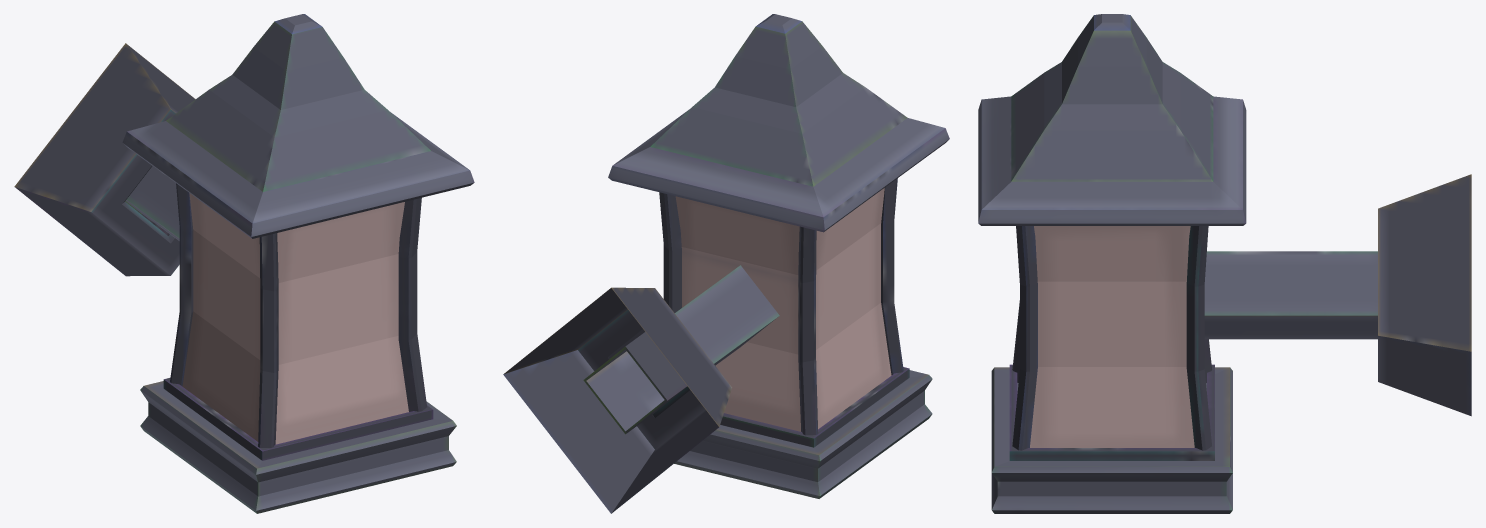
Rendered from Lampiao de Parede 2.fbx.
3 views of the same model, side by side, from view 1: azimuth 30°, elevation 25°; view 2: azimuth 150°, elevation 25°; view 3: azimuth 270°, elevation 25° (orthographic). The views are drawn at different scales.
Parts seen in each view (by area): view 1: Lampião de parede 2; view 2: Lampião de parede 2; view 3: Lampião de parede 2.
Part boxes in pixels (x1=…): Lampião de parede 2: x1=14, y1=14, x2=474, y2=513; Lampião de parede 2: x1=503, y1=14, x2=949, y2=513; Lampião de parede 2: x1=978, y1=14, x2=1471, y2=513.
Size of the model in its own units: 22.01 by 40.39 by 40.52.
